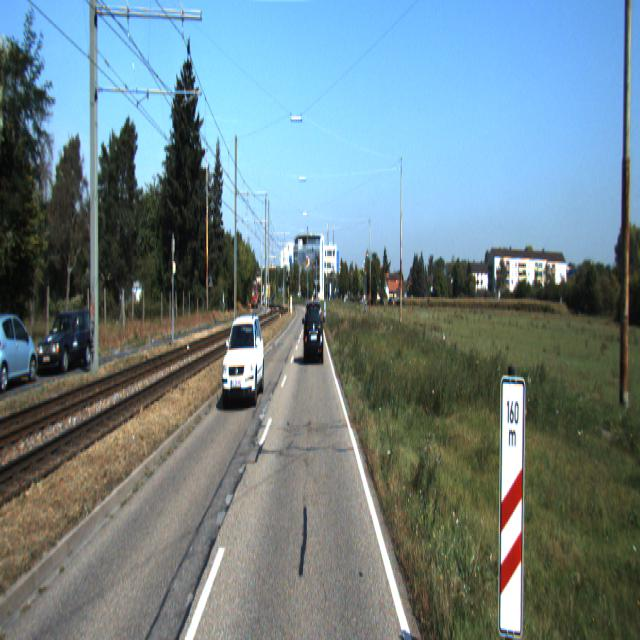Car: (34, 309, 95, 380), (222, 314, 266, 410), (0, 307, 39, 393), (304, 298, 324, 364)
